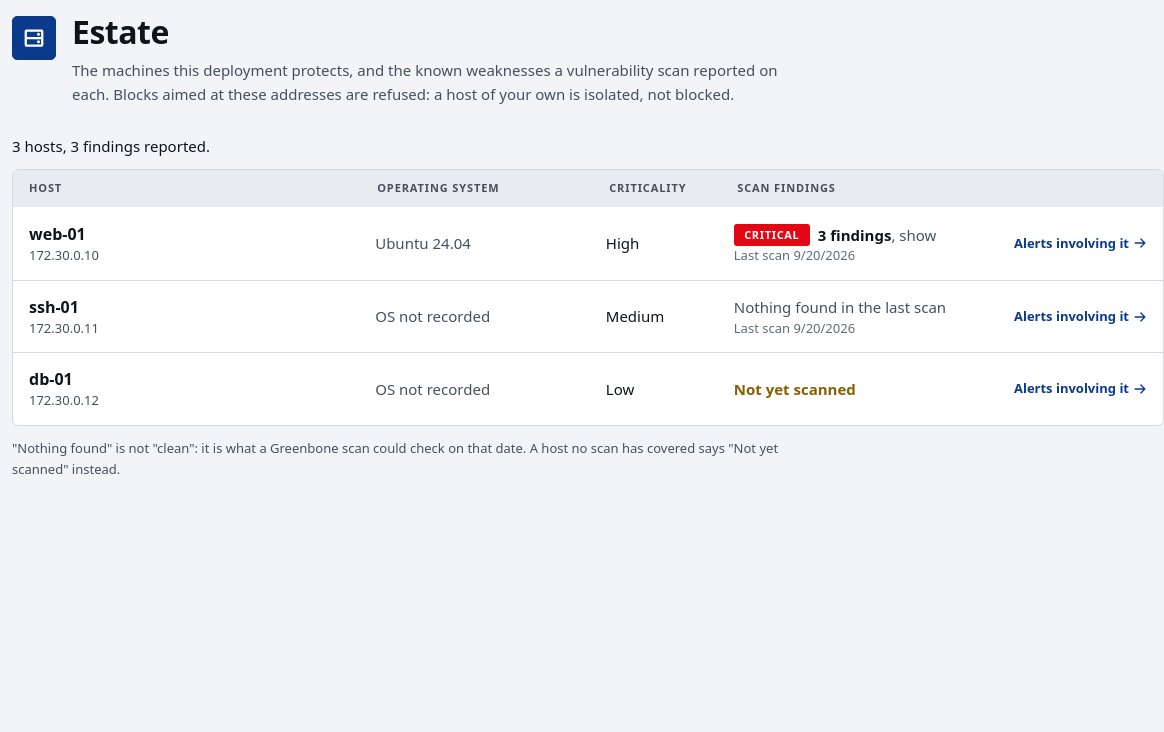
Test: EstatePage › lists findings worst first, with an unscored one as a dash
The image size is (1164, 732).
Click the button "critical 3 findings, show" at [835, 235], box [734,224,936,246]
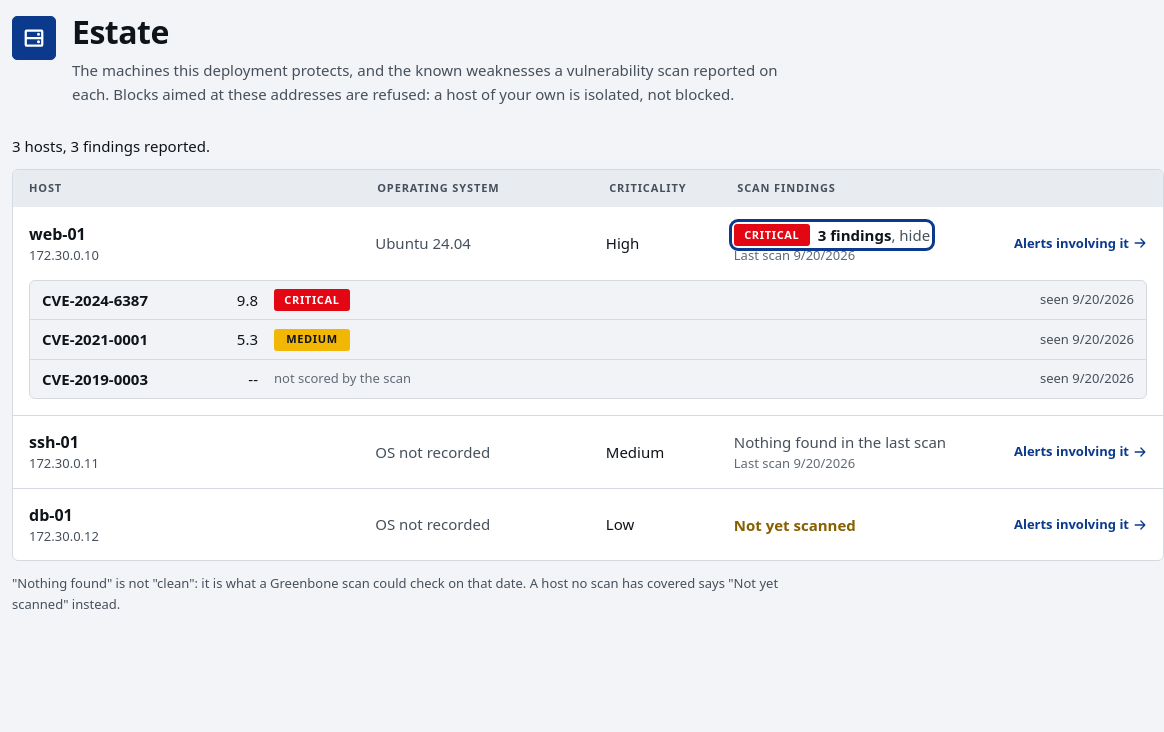
Now the elements "CVE-" read "CVE-2024-6387", "CVE-2021-0001", "CVE-2019-0003", in this order, box [42,290,148,310]; [42,329,148,349]; [42,369,148,389]
Now the text "not scored by the scan" is shown, box [274,369,411,389]
